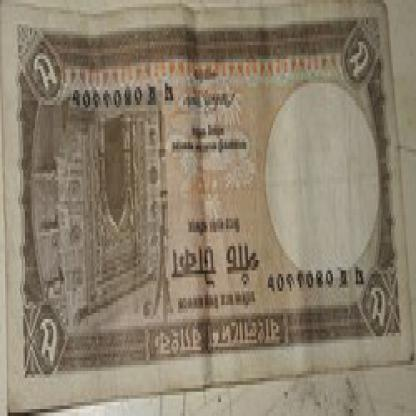Five Taka: (168, 232, 265, 288), (26, 45, 62, 114), (35, 298, 62, 378), (348, 28, 371, 100), (368, 281, 391, 333)
